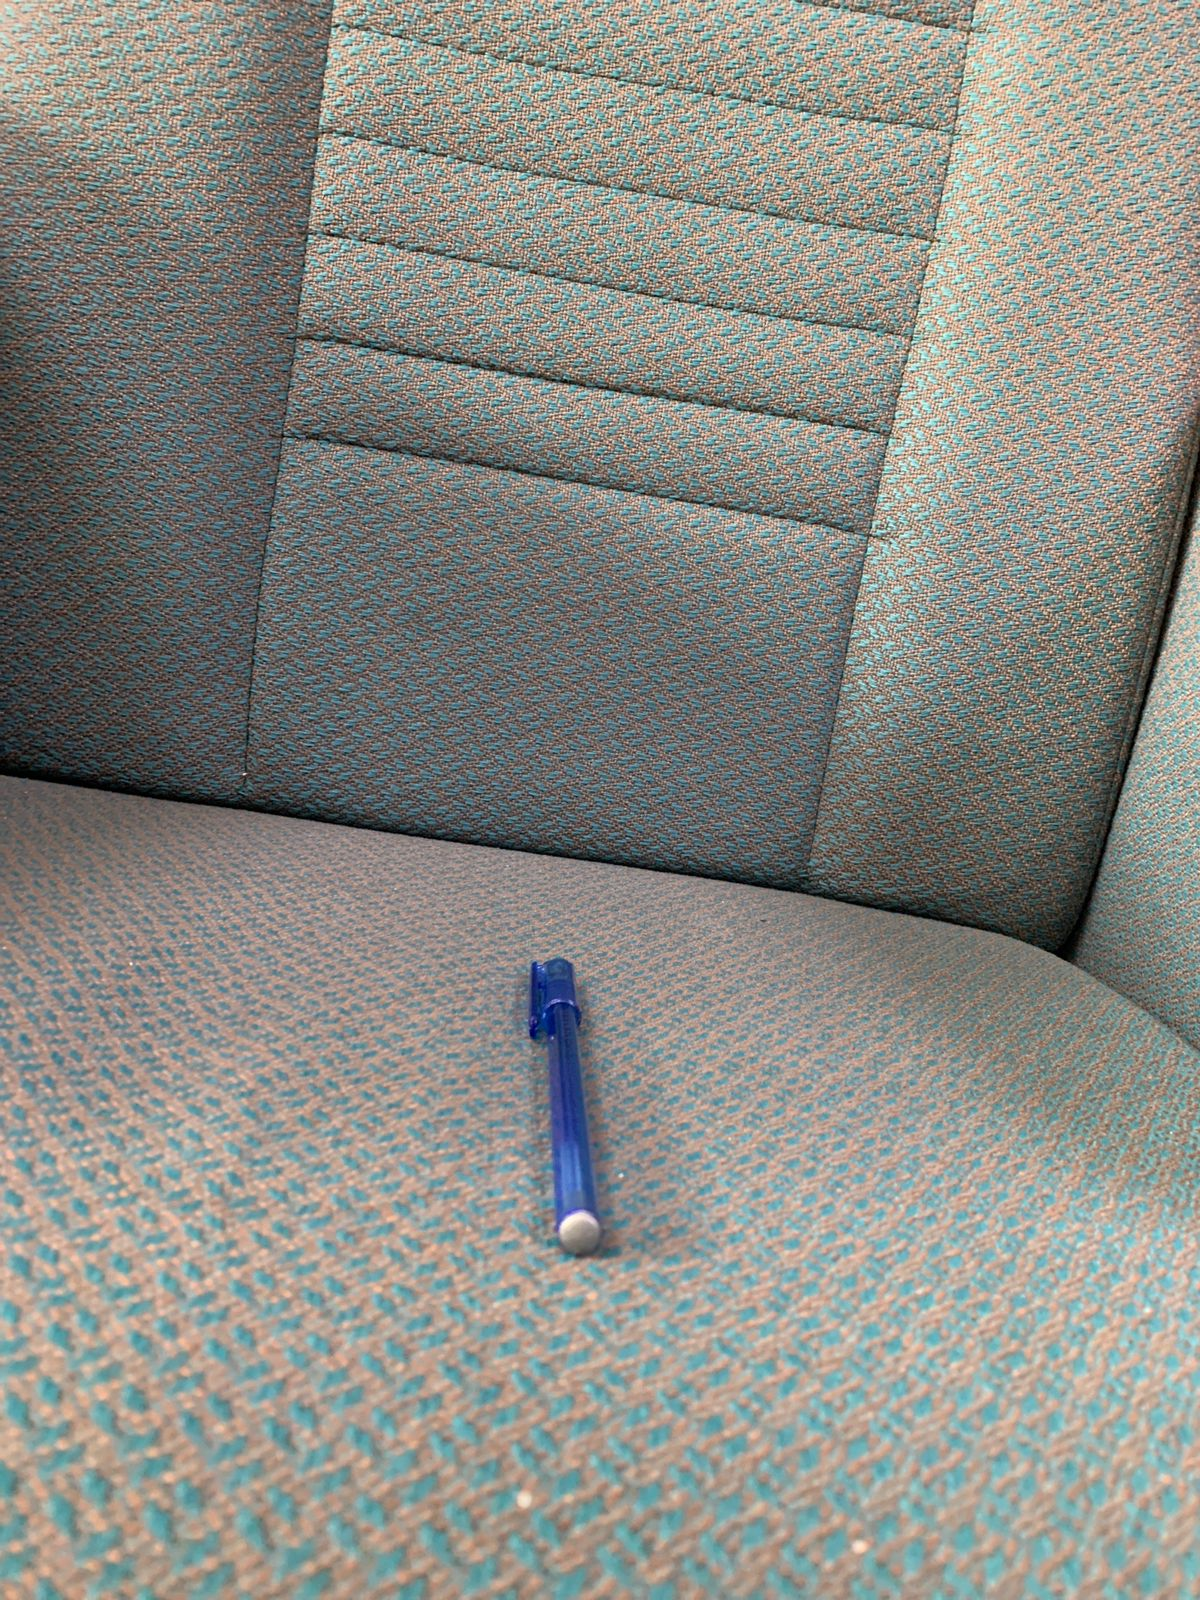pen: (429, 894, 684, 1335)
